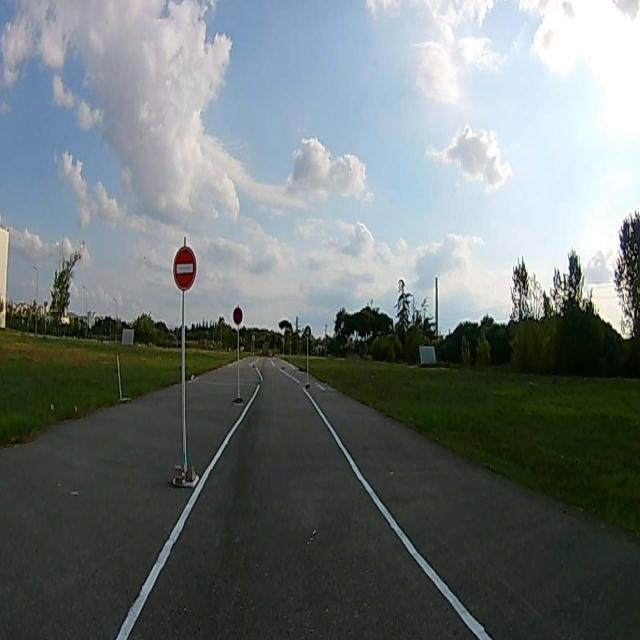girisyok: (173, 247, 197, 292)
